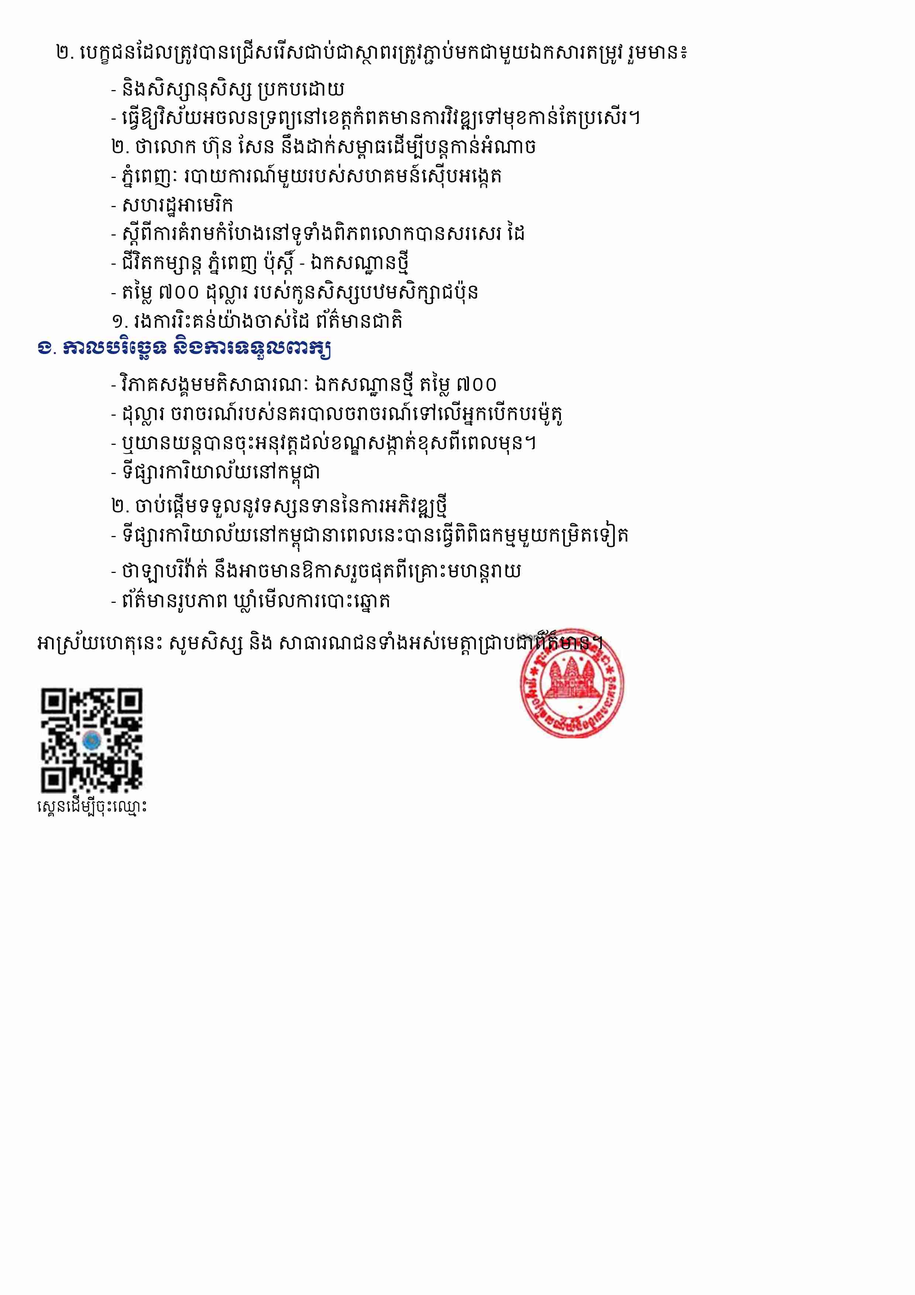decorative: (37, 683, 148, 794), (517, 628, 627, 738)
text: (111, 520, 629, 552), (55, 39, 689, 65), (37, 630, 604, 655), (111, 104, 641, 130), (111, 401, 563, 426), (111, 220, 526, 246), (111, 557, 522, 583), (111, 134, 537, 159), (111, 430, 537, 455), (111, 371, 498, 397), (111, 163, 503, 188), (111, 279, 479, 305), (111, 493, 448, 518), (111, 249, 410, 275), (37, 334, 331, 360), (111, 587, 391, 613), (111, 459, 321, 489), (111, 77, 345, 102), (111, 308, 403, 328), (111, 193, 234, 217), (37, 794, 148, 817)
